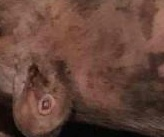text: (30, 89, 66, 119)
